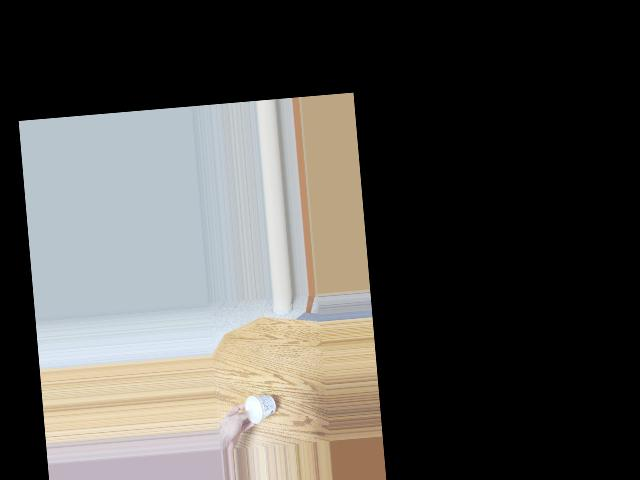cotage: (245, 390, 277, 423)
